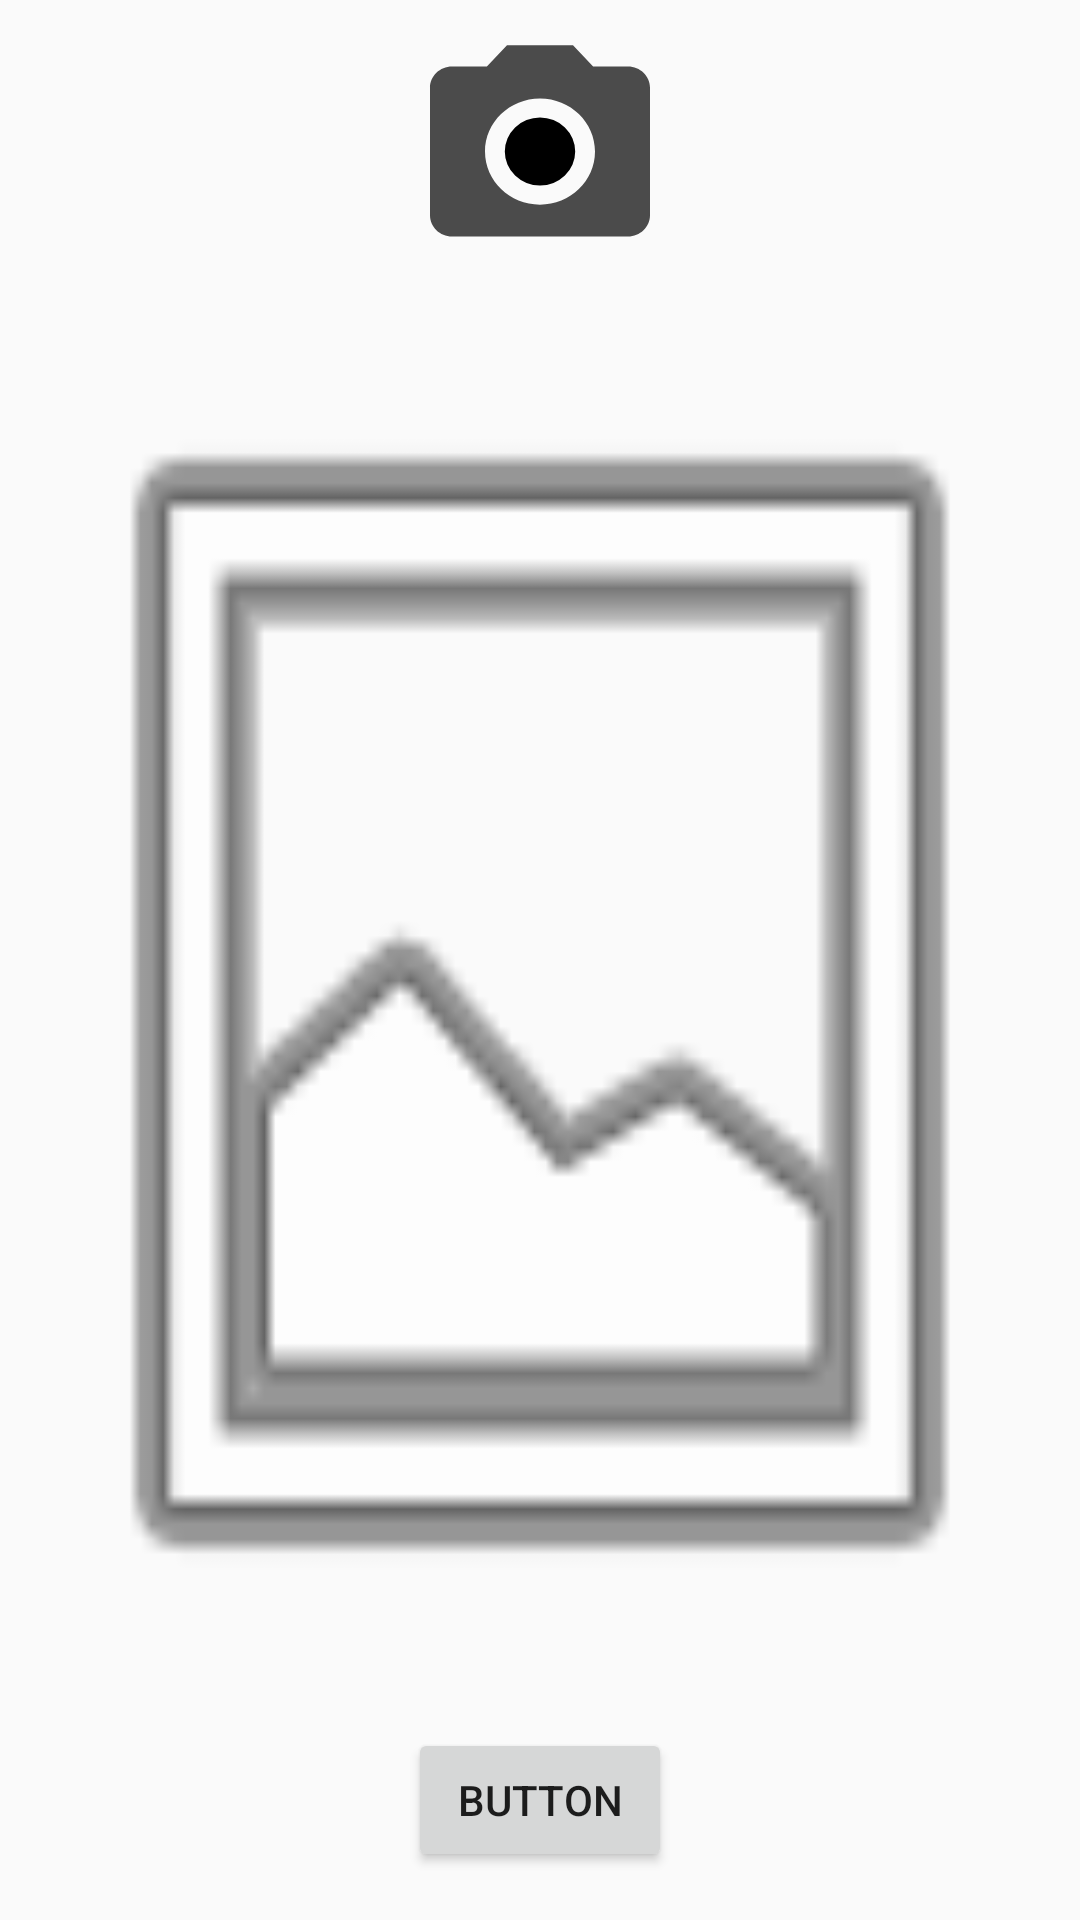

Point at icon controls on the screen. Image size 1080*1920, points as [x,y].
photo camera: [540,141]
